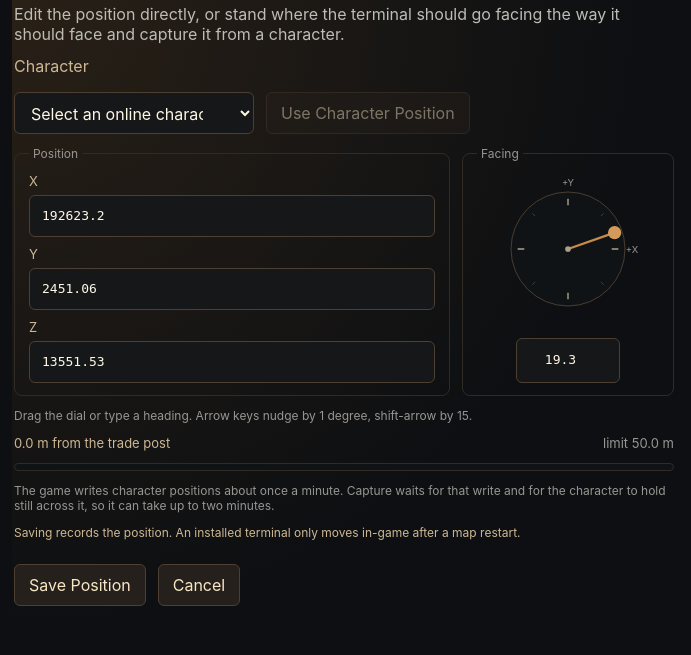
Scenario: CHOAM position editor › blocks saving when the heading is cleared rather than saving it as zero
Clear the number field named "facing in degrees". click: (568,360)
box: top-left (516, 338), bottom-right (620, 383)
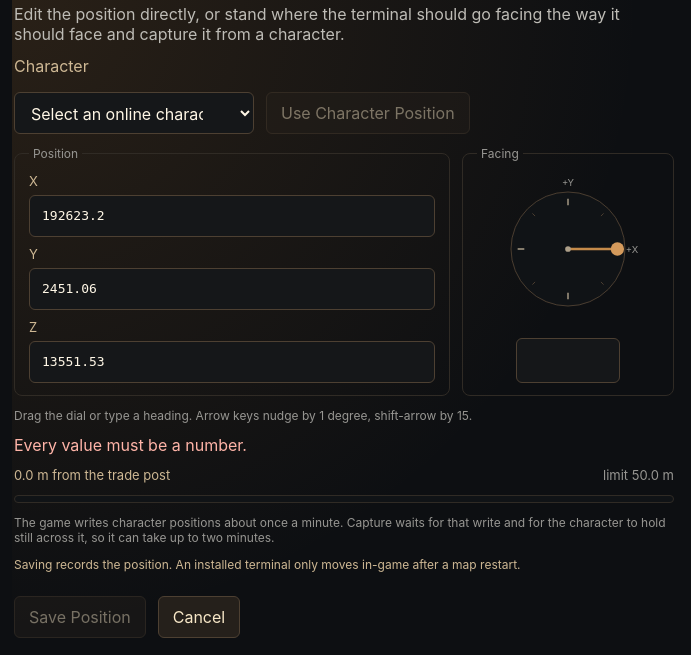
Check: the button "Save Position" is disabled, box top-left (14, 596), bottom-right (146, 638)
